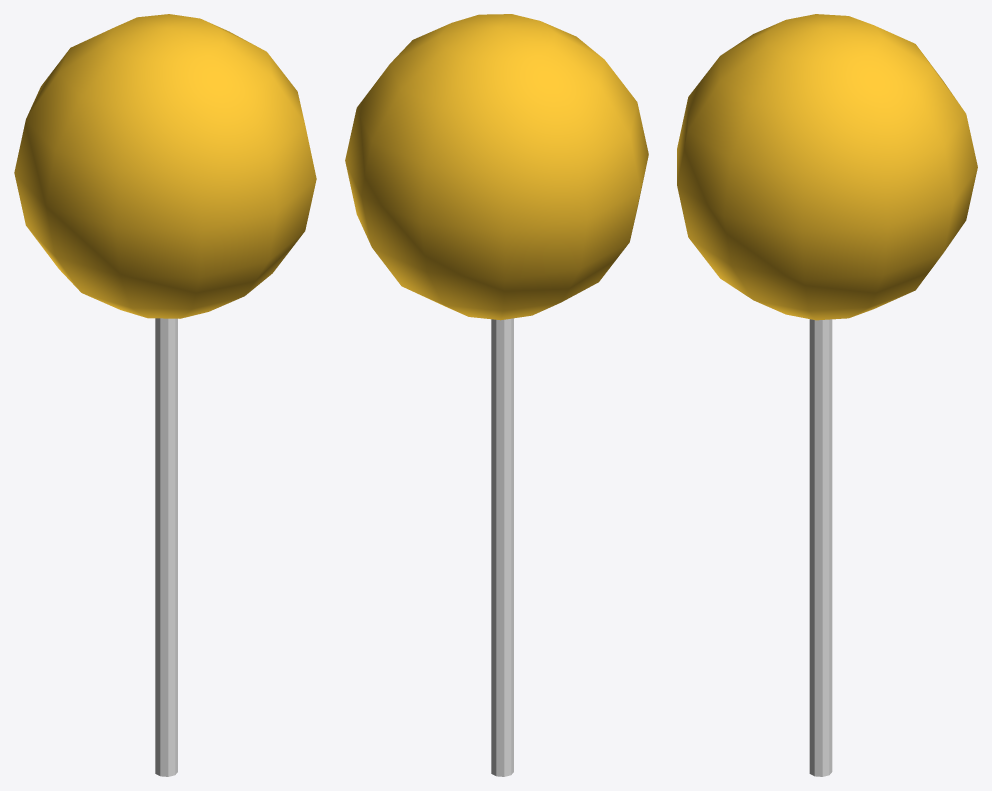
File: 024_Candy_Lollipop_01.fbx
3 renders of one model, left to right at view 1: azimuth 30°, elevation 25°; view 2: azimuth 150°, elevation 25°; view 3: azimuth 270°, elevation 25°, orthographic.
Visible parts, largest first — view 1: Sphere.020, Cylinder.056; view 2: Sphere.020, Cylinder.056; view 3: Sphere.020, Cylinder.056.
Part boxes in pixels (x1=…): Sphere.020: x1=14, y1=14, x2=316, y2=318; Cylinder.056: x1=155, y1=318, x2=177, y2=776; Sphere.020: x1=345, y1=14, x2=648, y2=320; Cylinder.056: x1=491, y1=318, x2=513, y2=776; Sphere.020: x1=677, y1=14, x2=977, y2=320; Cylinder.056: x1=809, y1=319, x2=832, y2=776.
Size of the model in its own units: 127 by 344 by 126.
